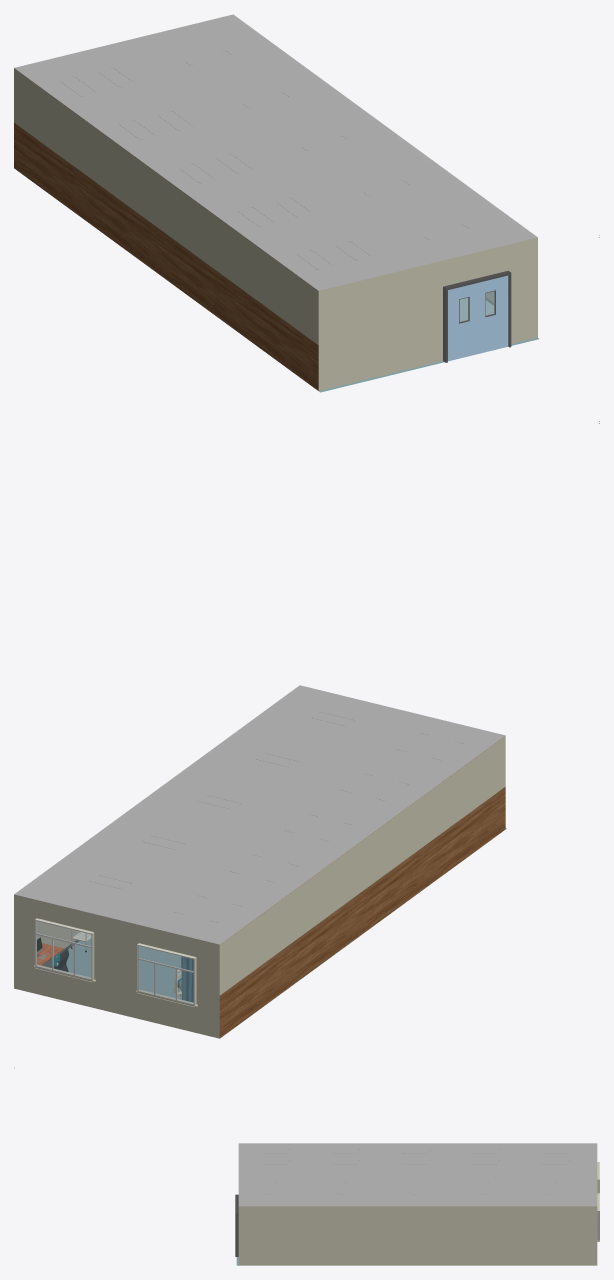
Rendered from MainRoom.glb.
The picture shows the model from 3 angles, top to bottom: view 1: azimuth 30°, elevation 25°; view 2: azimuth 150°, elevation 25°; view 3: azimuth 270°, elevation 25°; orthographic projection. The views are drawn at different scales.
Parts seen in each view (by area): view 1: Hospital_Wardroom:Wall2_Wall_0, Hospital_Wardroom:Door_Door1_0, Hospital_Wardroom:Floor1_Floor_0; view 2: Hospital_Wardroom:Wall2_Wall_0, Hospital_Wardroom:Door_Window_0, Hospital_Wardroom:Floor1_Floor_0, Hospital_Wardroom:WindowFrame_Metal_0; view 3: Hospital_Wardroom:Wall2_Wall_0.
Part boxes in pixels (x1,y1,x2,y2): Hospital_Wardroom:Wall2_Wall_0: (14, 14, 537, 391); Hospital_Wardroom:Door_Door1_0: (443, 270, 511, 362); Hospital_Wardroom:Floor1_Floor_0: (319, 298, 538, 392); Hospital_Wardroom:Wall2_Wall_0: (14, 685, 505, 1038); Hospital_Wardroom:Door_Window_0: (37, 921, 193, 1003); Hospital_Wardroom:Floor1_Floor_0: (66, 828, 506, 998); Hospital_Wardroom:WindowFrame_Metal_0: (35, 712, 353, 1005); Hospital_Wardroom:Wall2_Wall_0: (238, 1143, 599, 1265).
Size of the model in its own units: 6.55 by 7.82 by 25.73.
42 materials, 34 textured.
